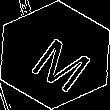M_NE: (18, 21, 92, 89)
